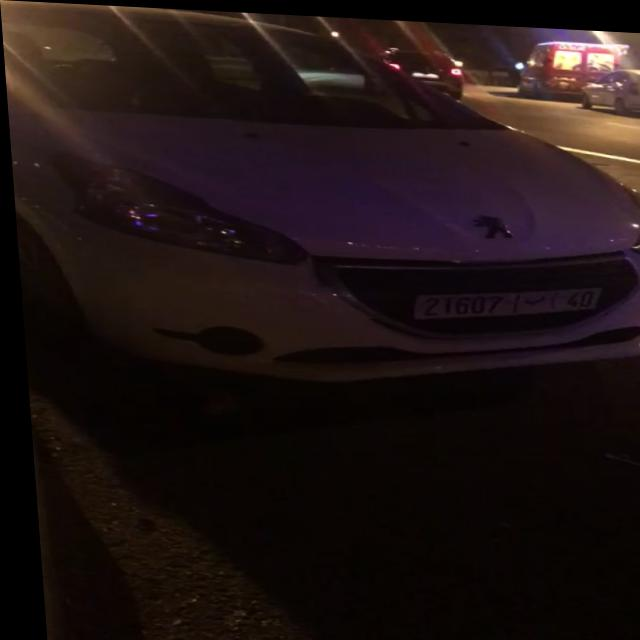License-Plate: (410, 282, 598, 315)
